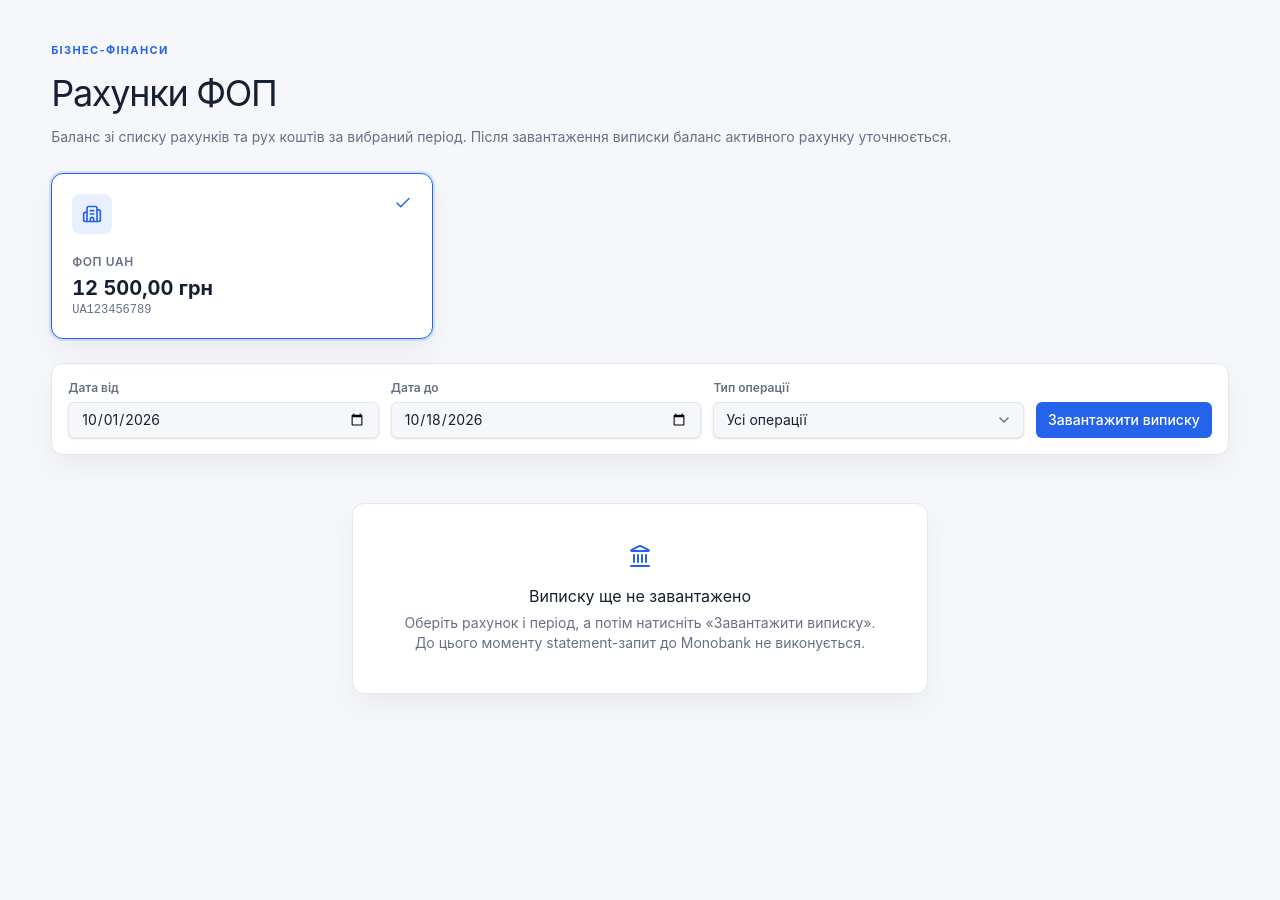
Scenario: AccountsPage › loads an account and filters statement operations without another request
The image size is (1280, 900).
Check: the heading "Виписку ще не завантажено" is shown, box [529,586,751,606]
Click the button "Завантажити виписку": (1124, 420) [1036,402,1212,438]
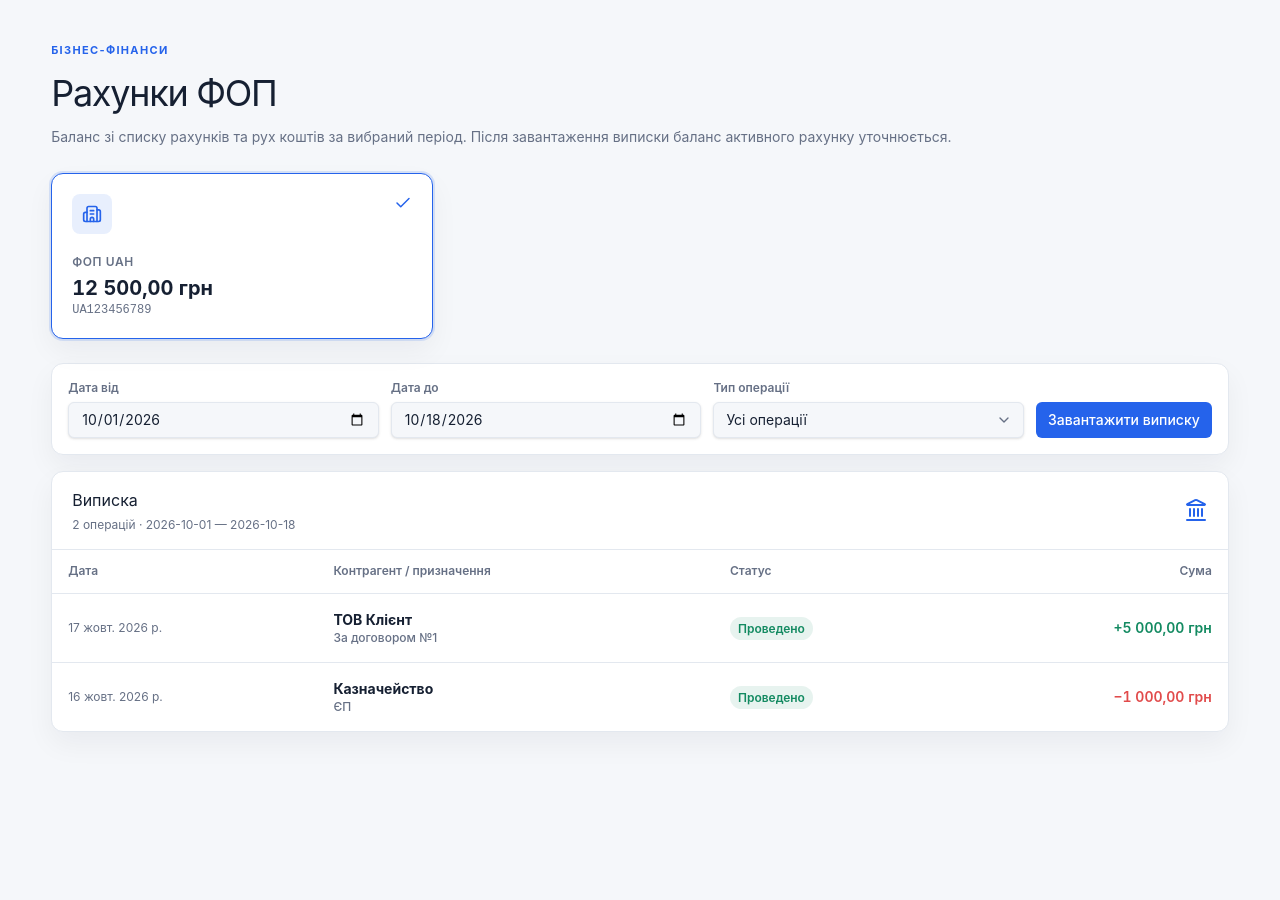
Check: the text "ТОВ Клієнт" is shown, box [333,611,412,628]
Check: the text "Казначейство" is shown, box [333,679,433,699]
Select "Надходження" in the dropdown labelled "Тип операції": (869, 420) [713,402,1024,438]
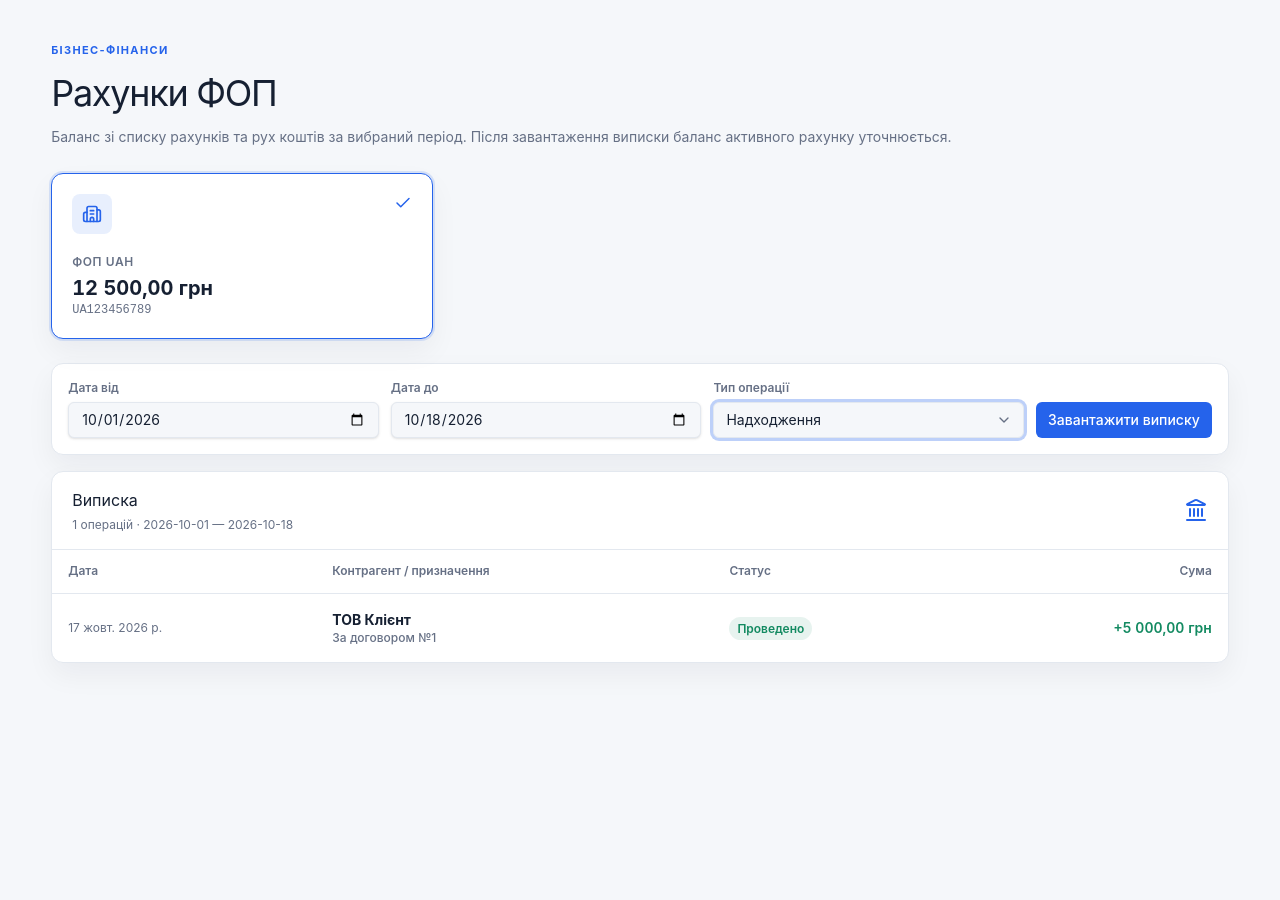
Check: the text "ТОВ Клієнт" is shown, box [332,611,411,628]
Check: the button "Казначейство" is gone
